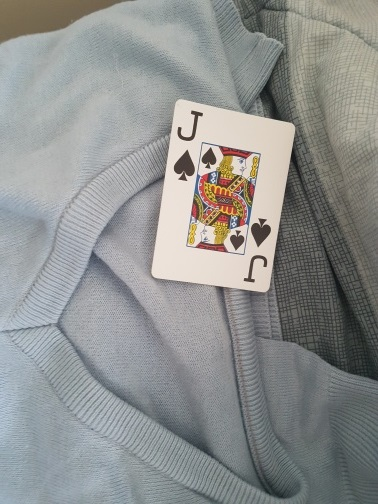jack: (151, 100, 294, 293)
